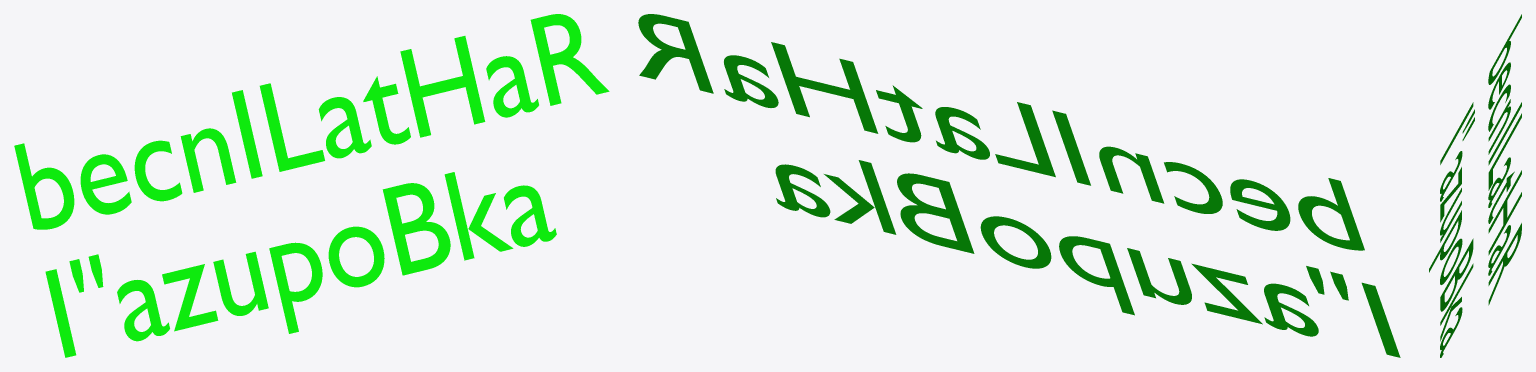
Rendered from Avtomat3.obj.
3 renders of one model, left to right at view 1: azimuth 30°, elevation 25°; view 2: azimuth 150°, elevation 25°; view 3: azimuth 270°, elevation 25°, orthographic. The views are drawn at different scales.
Parts seen in each view (by area): view 1: Text; view 2: Text; view 3: Text.
Part boxes in pixels (<box>): Text: <box>14,14,609,357</box>; Text: <box>638,14,1400,357</box>; Text: <box>1429,14,1521,357</box>.
Size of the model in its own units: 1.64 by 0.5481 by 0.2769.
